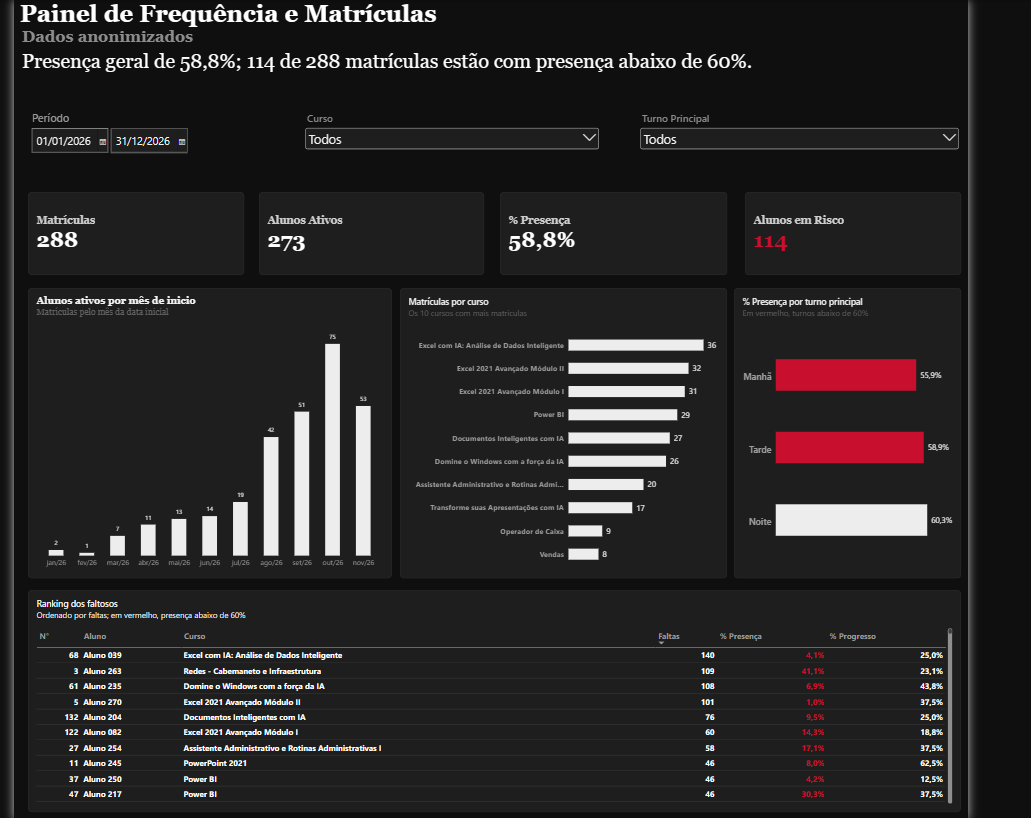

The dashboard page shown, as its layout file describes it:
{"tool":"powerbi","page":{"name":"Página 1","canvas":[1920,1650],"ordinal":0},"visuals":[{"type":"textbox","box":[0,0,1919.6,110.7],"z":0},{"type":"slicer","fields":{"Values":["Calendário.Date"]},"box":[28.2,223.4,561.4,148.9],"z":1000},{"type":"slicer","fields":{"Values":["Alunos.Curso"]},"box":[581.5,223.4,599.6,148.9],"z":2000},{"type":"slicer","fields":{"Values":["Alunos.Turno Principal"]},"box":[1255.6,223.4,649.9,148.9],"z":3000},{"type":"cardVisual","fields":{"Data":["Alunos.Resumo"]},"box":[0,72.4,1519.2,102.6],"z":4000},{"type":"cardVisual","title":"Matriculas","fields":{"Data":["Alunos.Matrículas"]},"box":[28.2,386.3,434.6,167],"z":4001},{"type":"cardVisual","fields":{"Data":["Alunos.Alunos Ativos"]},"box":[493,386.3,452.7,167],"z":4002},{"type":"cardVisual","fields":{"Data":["Alunos.% Presença"]},"box":[977.9,386.3,456.8,167],"z":4003},{"type":"cardVisual","fields":{"Data":["Alunos.Alunos em Risco"]},"box":[1470.9,386.3,434.6,167],"z":4004},{"type":"clusteredColumnChart","title":"Alunos ativos por mês de inicio","fields":{"Category":["Calendário.Início do Mês"],"Y":["Alunos.Matrículas"]},"box":[28.2,579.5,732.4,583.5],"z":4005},{"type":"clusteredBarChart","title":"Matrículas por curso","fields":{"Category":["Alunos.Curso"],"Y":["Alunos.Matrículas"]},"box":[776.7,579.5,658,583.5],"z":4006},{"type":"clusteredBarChart","title":"% Presença por turno principal","fields":{"Category":["Alunos.Turno Principal"],"Y":["Alunos.% Presença"]},"box":[1448.8,579.5,456.8,583.5],"z":4007},{"type":"tableEx","title":"Ranking dos faltosos","fields":{"Values":["Alunos.ID Matrícula","Alunos.Nome Aluno","Alunos.Curso","Alunos.Total Faltas","Alunos.% Presença","Alunos.% Progresso"]},"box":[28.2,1187.2,1877.4,446.7],"z":4008}]}

Visuals, with their boxes on the page's 1920x1650 design canvas (x1, y1, x2, y2). These are canvas units, not pixel positions in the 1031x818 screenshot, which may show the page scaled, cropped or inside an application window:
textbox: rect(0, 0, 1920, 111)
slicer - Calendário.Date: rect(28, 223, 590, 372)
slicer - Alunos.Curso: rect(582, 223, 1181, 372)
slicer - Alunos.Turno Principal: rect(1256, 223, 1906, 372)
cardVisual - Alunos.Resumo: rect(0, 72, 1519, 175)
"Matriculas" cardVisual: rect(28, 386, 463, 553)
cardVisual - Alunos.Alunos Ativos: rect(493, 386, 946, 553)
cardVisual - Alunos.% Presença: rect(978, 386, 1435, 553)
cardVisual - Alunos.Alunos em Risco: rect(1471, 386, 1906, 553)
"Alunos ativos por mês de inicio" clusteredColumnChart: rect(28, 580, 761, 1163)
"Matrículas por curso" clusteredBarChart: rect(777, 580, 1435, 1163)
"% Presença por turno principal" clusteredBarChart: rect(1449, 580, 1906, 1163)
"Ranking dos faltosos" tableEx: rect(28, 1187, 1906, 1634)
